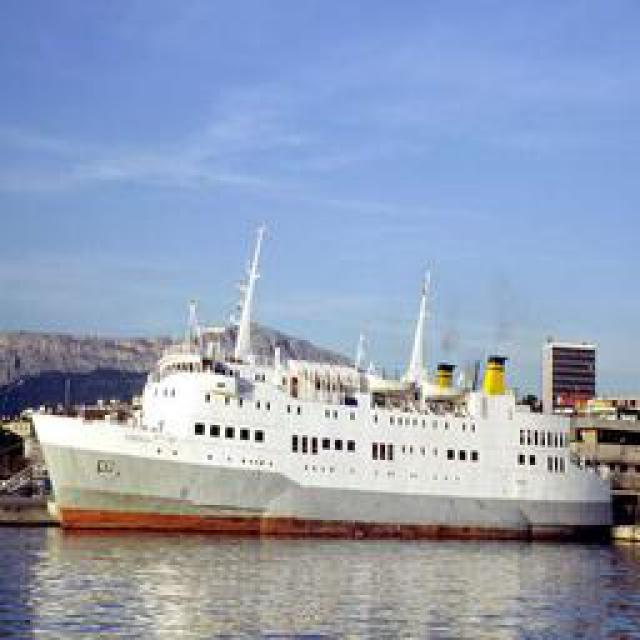Ship: (24, 234, 624, 539)
